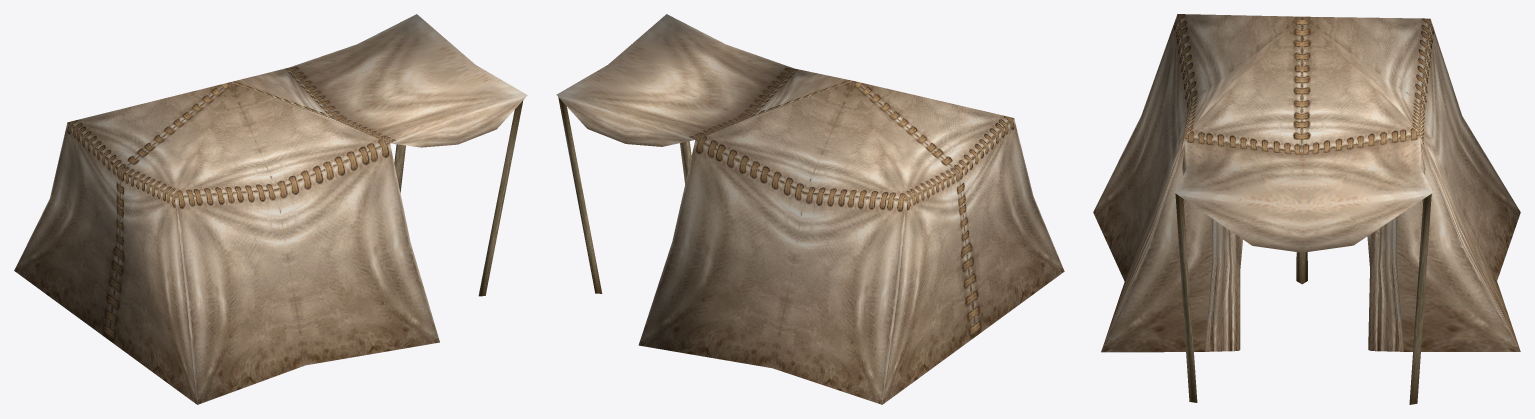
File: excavationtent01.glb
The picture shows the model from 3 angles, left to right: view 1: azimuth 30°, elevation 25°; view 2: azimuth 150°, elevation 25°; view 3: azimuth 270°, elevation 25°; orthographic projection. The views are drawn at different scales.
Bounding box in the file's own units: 7.54 × 4.47 × 6.49.
2 materials, 2 textured.
